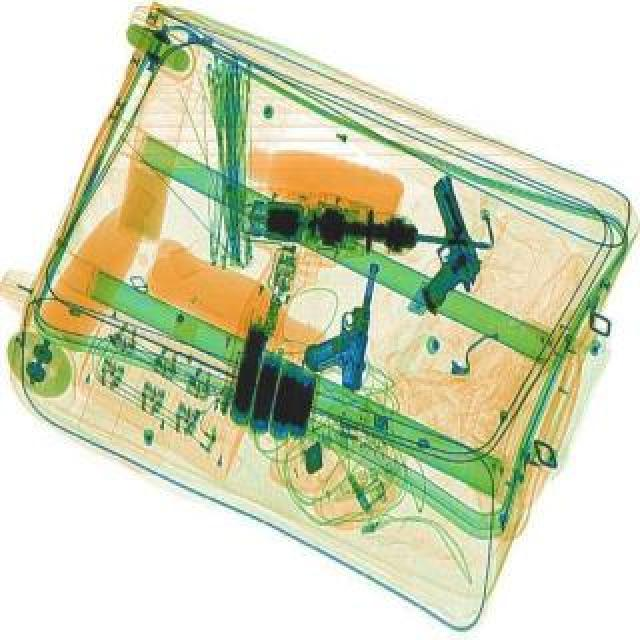gun: (382, 178, 498, 316), (302, 256, 388, 396)
